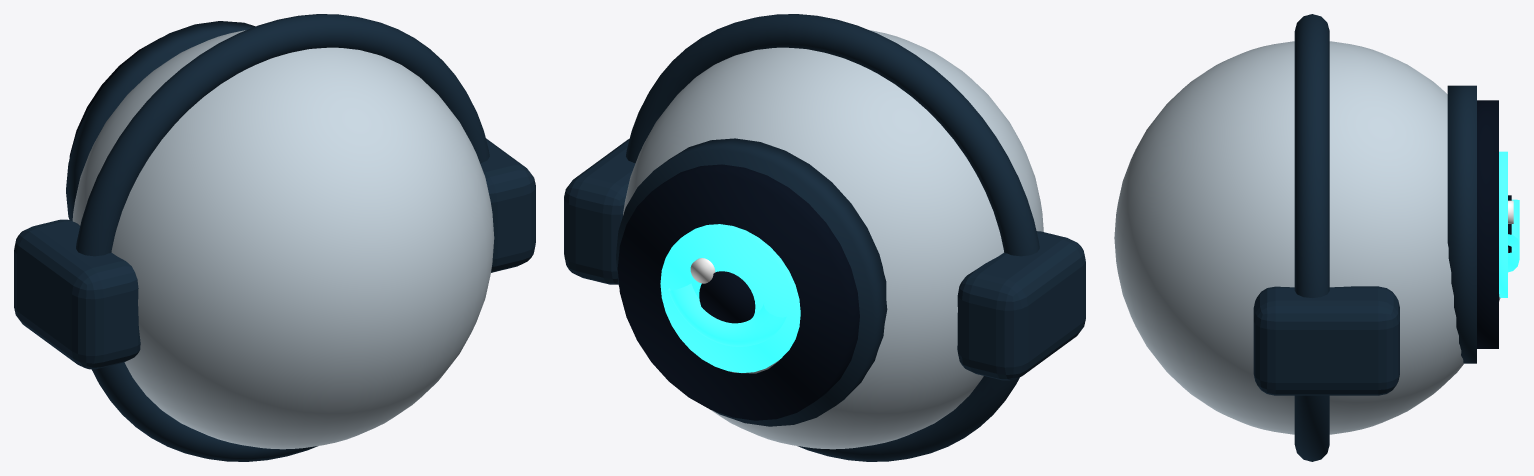
File: PipHead.fbx
The picture shows the model from 3 angles, left to right: view 1: azimuth 30°, elevation 25°; view 2: azimuth 150°, elevation 25°; view 3: azimuth 270°, elevation 25°; orthographic projection. The views are drawn at different scales.
Parts seen in each view (by area): view 1: Shell.001, Band, Cheek, EyeRim, Cheek.001; view 2: Shell.001, EyeSocket, Band, Cheek, EyeRim, Iris, Cheek.001, Happy, Pupil; view 3: Shell.001, Cheek.001, Band, EyeRim, EyeSocket, Iris, Happy.
Boxes of the visible parts, x1,y1,x2,y2 form: Shell.001: (72, 30, 494, 449); Band: (76, 14, 489, 461); Cheek: (14, 219, 140, 369); EyeRim: (66, 21, 255, 220); Cheek.001: (480, 138, 535, 272); Shell.001: (623, 30, 1043, 449); EyeSocket: (617, 164, 859, 420); Band: (626, 14, 1039, 461); Cheek: (957, 231, 1085, 380); EyeRim: (616, 138, 887, 426); Iris: (660, 224, 800, 372); Cheek.001: (564, 139, 635, 284); Happy: (668, 283, 786, 346); Pupil: (699, 271, 755, 323); Shell.001: (1114, 41, 1508, 434); Cheek.001: (1253, 286, 1399, 395); Band: (1294, 14, 1329, 461); EyeRim: (1447, 85, 1476, 363); EyeSocket: (1477, 100, 1498, 348); Iris: (1499, 151, 1507, 297); Happy: (1508, 199, 1519, 272).
Size of the model in its own units: 0.68 by 0.553 by 0.612.
